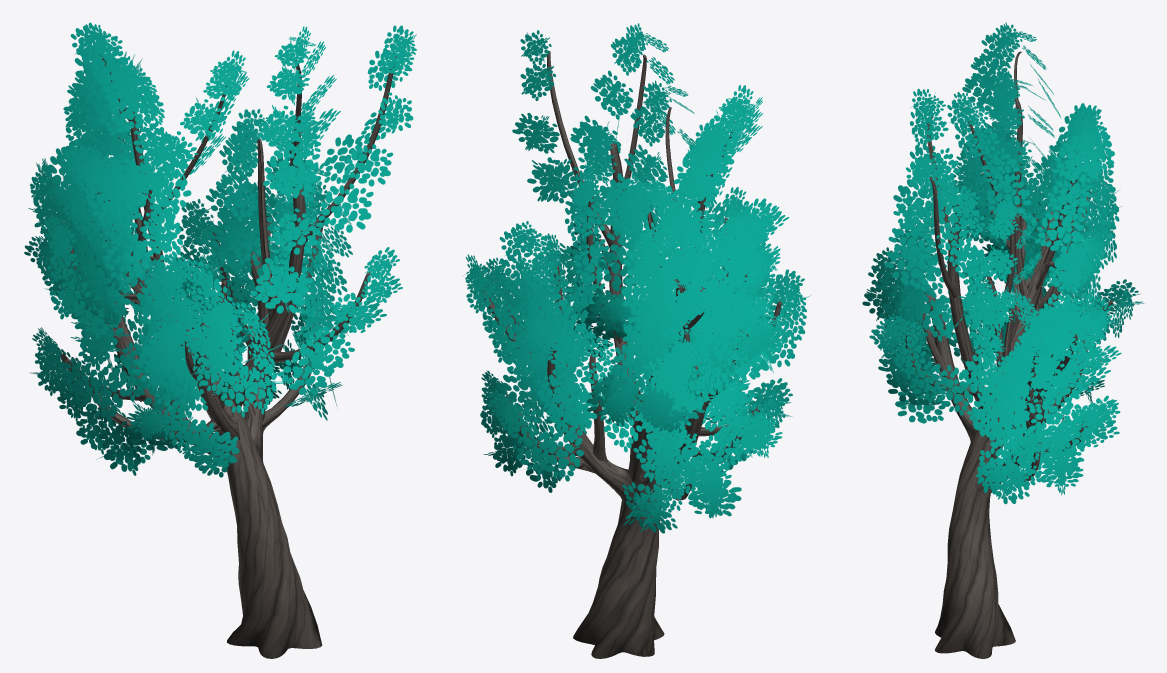
The model's file is arvore_incubadora.glb.
3 renders of one model, left to right at view 1: azimuth 30°, elevation 25°; view 2: azimuth 150°, elevation 25°; view 3: azimuth 270°, elevation 25°, orthographic. The views are drawn at different scales.
Parts seen in each view (by area): view 1: TwistedTree_2; view 2: TwistedTree_2; view 3: TwistedTree_2.
Part boxes in pixels (<box>): TwistedTree_2: <box>24,22,416,658</box>; TwistedTree_2: <box>463,23,811,658</box>; TwistedTree_2: <box>862,22,1144,658</box>.
Bounding box in the file's own units: 10.56 × 18.95 × 9.2.
2 materials, 2 textured.
